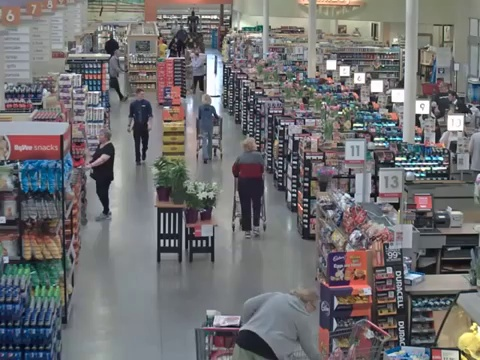face: (138, 90, 145, 101), (99, 133, 107, 142)
